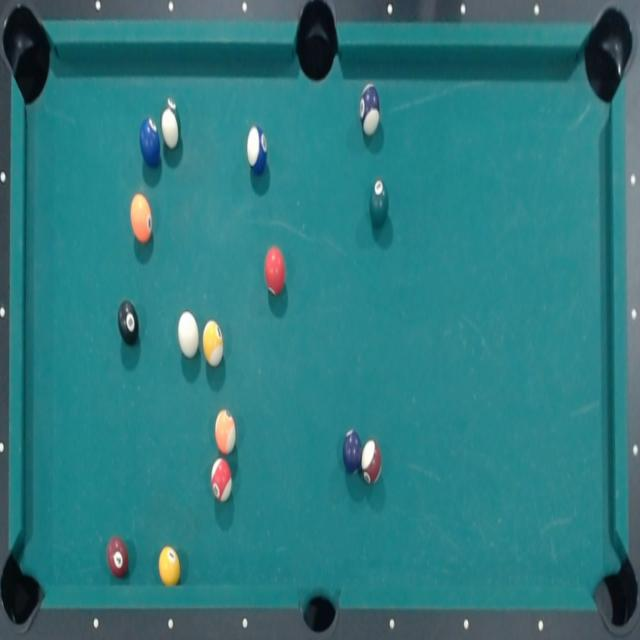black_8ball: (116, 300, 141, 347)
blue_solid: (139, 118, 162, 166)
blue_stripe: (245, 122, 270, 174)
cue_ball: (177, 309, 201, 362)
green_solid: (369, 178, 389, 230)
green_stripe: (159, 96, 184, 152)
maroon_solid: (106, 534, 130, 576)
maroon_stripe: (360, 439, 384, 485)
orange_solid: (128, 192, 156, 243)
orange_stripe: (213, 407, 239, 455)
playr: (342, 428, 363, 475)
purple_solid: (358, 82, 382, 138)
purple_stripe: (264, 247, 287, 300)
red_solid: (210, 456, 234, 506)
red_stripe: (157, 544, 182, 586)
yellow_solid: (201, 318, 226, 368)
